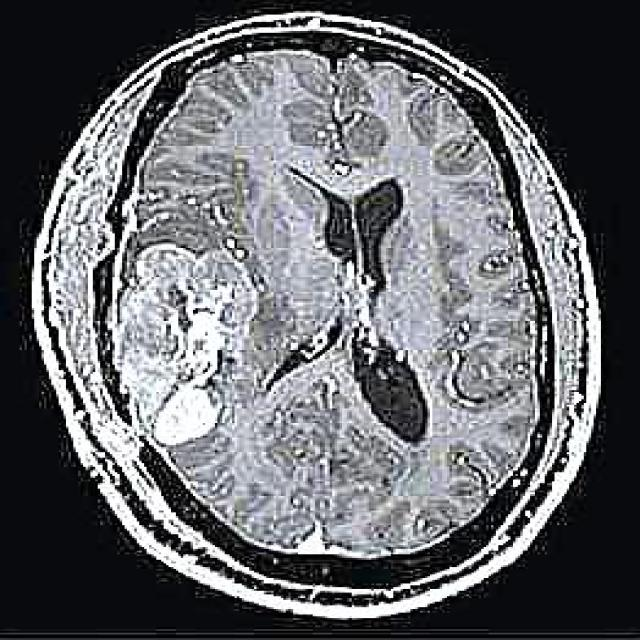Tumor-Cell: (99, 262, 252, 429)
